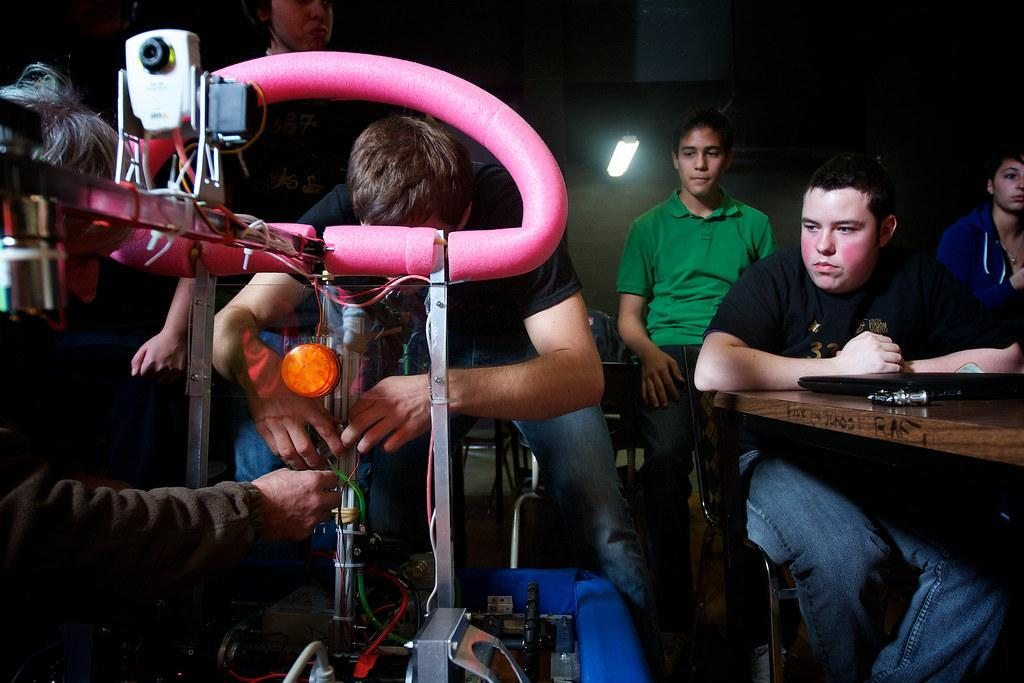robot: (0, 23, 656, 683)
